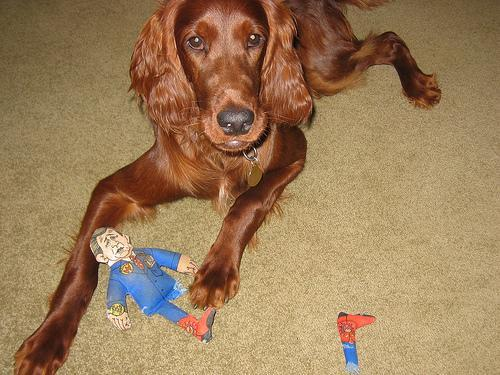Irish_setter: (13, 0, 442, 374)
